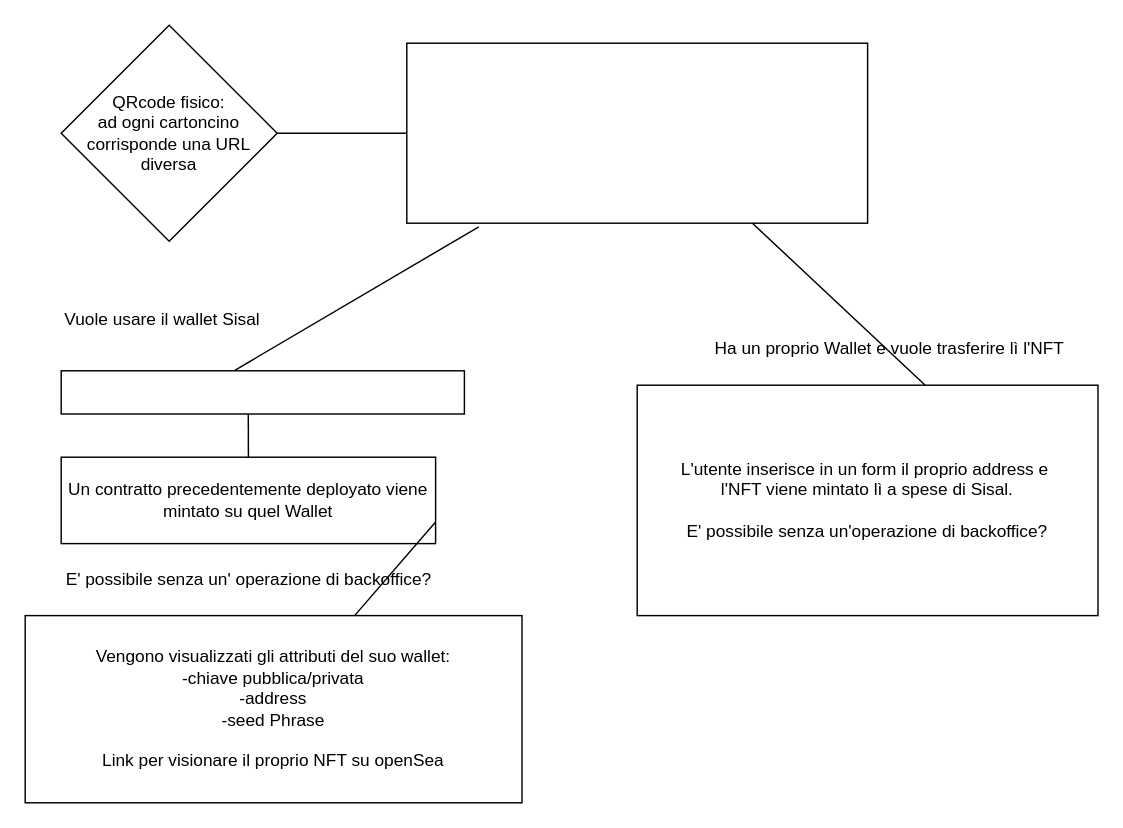
Image size: 1123x828. Some labels were removed from this diagram. The box of each missing label's shape, as (x1, y1, x2, y2) in pixels:
L'Utente atterra su uno specifico URL a cui non è ancora associato un wallet: (405, 42, 868, 223)
Viene generato il wallet: (60, 369, 464, 414)
